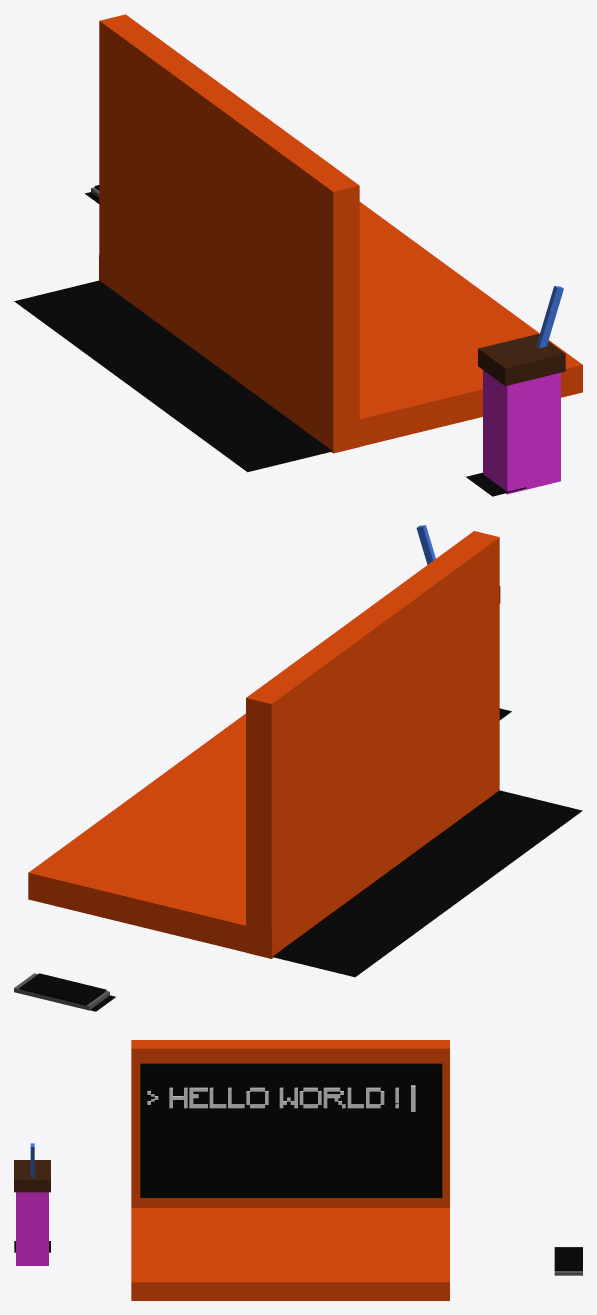
File: animation.glb
3 renders of one model, top to bottom at view 1: azimuth 30°, elevation 25°; view 2: azimuth 150°, elevation 25°; view 3: azimuth 270°, elevation 25°, orthographic. The views are drawn at different scales.
Parts seen in each view (by area): view 1: Cube.002, Cube.001, Plane, Cube.003, Cube.006, Cube.007; view 2: Cube.002, Cube.001, Plane, Cube.008; view 3: Cube.004, Cube.001, Cube.002, Text, Cube.003, Cube.006, Cube.008.
Boxes of the visible parts, x1,y1,x2,y2 form: Cube.002: [99, 14, 359, 453]; Cube.001: [99, 202, 582, 451]; Plane: [14, 280, 332, 472]; Cube.003: [483, 370, 560, 494]; Cube.006: [478, 334, 565, 385]; Cube.007: [536, 286, 563, 348]; Cube.002: [246, 531, 499, 958]; Cube.001: [28, 713, 283, 958]; Plane: [273, 790, 582, 977]; Cube.008: [19, 973, 106, 1005]; Cube.004: [140, 1063, 442, 1197]; Cube.001: [131, 1208, 449, 1300]; Cube.002: [131, 1040, 449, 1207]; Text: [147, 1087, 398, 1108]; Cube.003: [16, 1192, 48, 1265]; Cube.006: [14, 1160, 50, 1192]; Cube.008: [554, 1247, 582, 1270].
Size of the model in its own units: 0.203 by 0.1533 by 0.4383.
